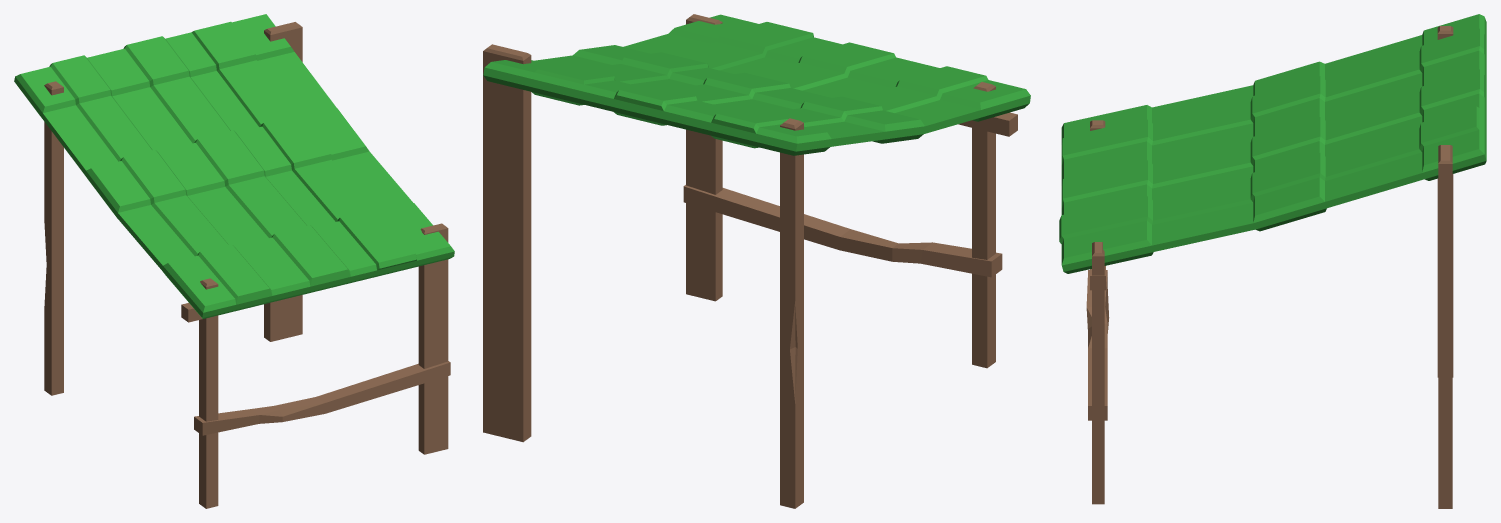
Rendered from House_01_Addition.fbx.
The picture shows the model from 3 angles, left to right: view 1: azimuth 30°, elevation 25°; view 2: azimuth 150°, elevation 25°; view 3: azimuth 270°, elevation 25°; orthographic projection. The views are drawn at different scales.
Parts seen in each view (by area): view 1: House_01_Addition; view 2: House_01_Addition; view 3: House_01_Addition.
Part boxes in pixels (x1,y1,x2,y2): House_01_Addition: [14, 14, 454, 508]; House_01_Addition: [483, 14, 1030, 508]; House_01_Addition: [1059, 14, 1486, 508].
Size of the model in its own units: 308 by 344 by 377.
1 material, 1 textured.
